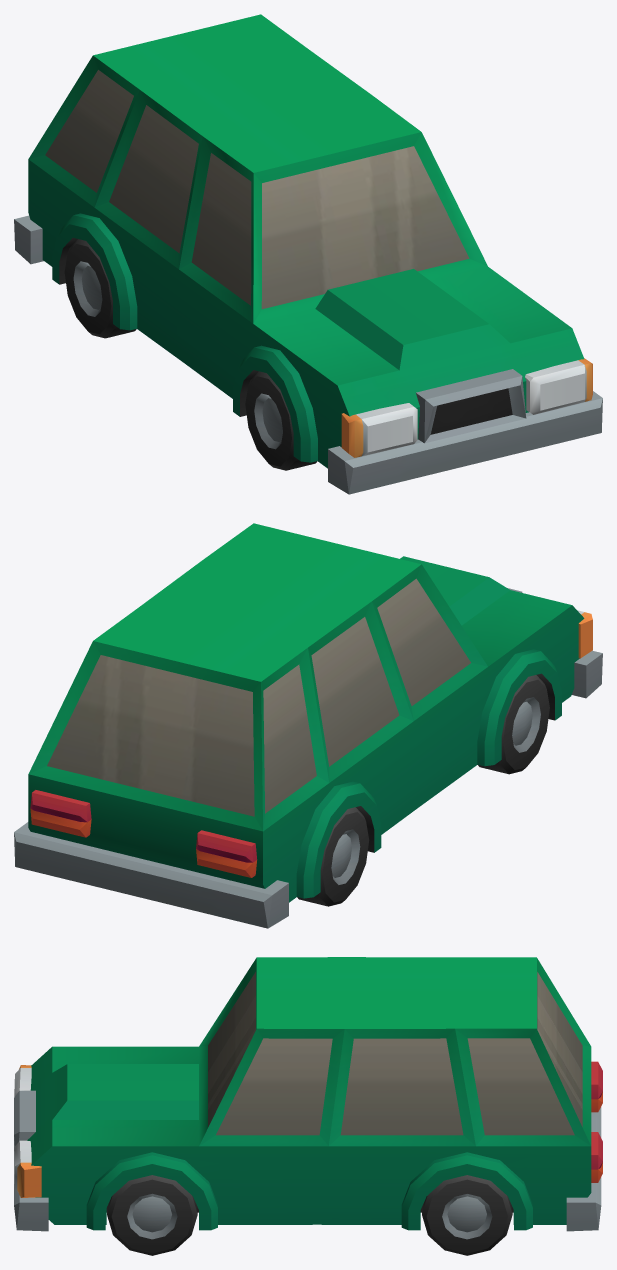
Rendered from wagon.glb.
3 views of the same model, one above another, from view 1: azimuth 30°, elevation 25°; view 2: azimuth 150°, elevation 25°; view 3: azimuth 270°, elevation 25° (orthographic). The views are drawn at different scales.
Visible parts, largest first — view 1: car_stationwagon, car_stationwagon_wheel_front_right, car_stationwagon_wheel_rear_right; view 2: car_stationwagon, car_stationwagon_wheel_rear_right, car_stationwagon_wheel_front_right; view 3: car_stationwagon, car_stationwagon_wheel_front_left, car_stationwagon_wheel_rear_left.
Part boxes in pixels (box(x1,y1,x2,y2)): car_stationwagon: box(14, 14, 602, 494); car_stationwagon_wheel_front_right: box(245, 371, 317, 470); car_stationwagon_wheel_rear_right: box(64, 239, 136, 338); car_stationwagon: box(14, 523, 602, 928); car_stationwagon_wheel_rear_right: box(297, 807, 369, 906); car_stationwagon_wheel_front_right: box(478, 675, 549, 774); car_stationwagon: box(14, 957, 602, 1231); car_stationwagon_wheel_front_left: box(107, 1175, 197, 1255); car_stationwagon_wheel_rear_left: box(422, 1175, 512, 1255).
Size of the model in its own units: 0.4189 by 0.3688 by 0.9381.
1 material, 1 textured.
